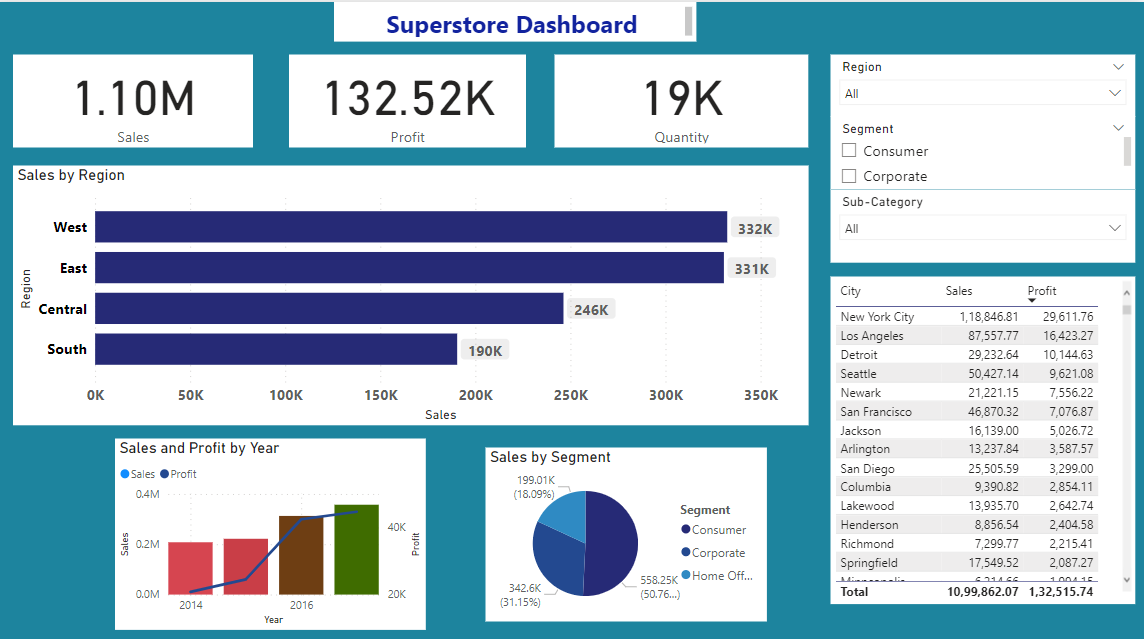

What the dashboard file says about the page in this screenshot:
{"tool":"powerbi","page":{"name":"Overview","canvas":[1280,720],"ordinal":0},"visuals":[{"type":"clusteredBarChart","fields":{"Category":["Sample - Superstore.Region"],"Y":["Sum(Sample - Superstore.Sales)"]},"box":[23.4,181.2,884,288.9],"z":0},{"type":"card","fields":{"Values":["Sum(Sample - Superstore.Sales)"]},"box":[23.3,57.8,266.7,103.3],"z":1000},{"type":"card","fields":{"Values":["Sum(Sample - Superstore.Profit)"]},"box":[330,57.8,263.3,103.3],"z":2000},{"type":"textbox","box":[379.5,0,403,43.7],"z":3000},{"type":"slicer","fields":{"Values":["Sample - Superstore.Region"]},"box":[930.8,57.8,338.9,68.7],"z":4000},{"type":"slicer","fields":{"Values":["Sample - Superstore.Segment"]},"box":[930.8,126.5,338.9,81.2],"z":6000},{"type":"slicer","fields":{"Values":["Sample - Superstore.Sub-Category"]},"box":[930.8,207.7,338.9,81.2],"z":7000},{"type":"card","fields":{"Values":["Sum(Sample - Superstore.Quantity)"]},"box":[624.4,57.8,282.2,103.3],"z":8000},{"type":"tableEx","fields":{"Values":["Sample - Superstore.City","Sum(Sample - Superstore.Sales)","Sum(Sample - Superstore.Profit)"]},"box":[930.8,304.6,338.9,363.9],"z":9000},{"type":"pieChart","fields":{"Y":["Sum(Sample - Superstore.Sales)"],"Category":["Sample - Superstore.Segment"]},"box":[548.2,495.1,312.4,193.7],"z":10000},{"type":"lineClusteredColumnComboChart","fields":{"Category":["Sample - Superstore.Order Date.Variation.Date Hierarchy.Year","Sample - Superstore.Order Date.Variation.Date Hierarchy.Quarter","Sample - Superstore.Order Date.Variation.Date Hierarchy.Month","Sample - Superstore.Order Date.Variation.Date Hierarchy.Day"],"Y":["Sum(Sample - Superstore.Sales)"],"Y2":["Sum(Sample - Superstore.Profit)"]},"box":[137.4,485.7,345.2,212.4],"z":10001}]}

Visuals, with their boxes in screenshot pixels (x1, y1, x2, y2), scaled from the page's 1280x720 canvas onto the 1144x639 screenshot:
clusteredBarChart - Sample - Superstore.Region x Sum(Sample - Superstore.Sales): 21 161 811 417
card - Sum(Sample - Superstore.Sales): 21 51 259 143
card - Sum(Sample - Superstore.Profit): 295 51 530 143
textbox: 339 0 699 39
slicer - Sample - Superstore.Region: 832 51 1135 112
slicer - Sample - Superstore.Segment: 832 112 1135 184
slicer - Sample - Superstore.Sub-Category: 832 184 1135 256
card - Sum(Sample - Superstore.Quantity): 558 51 810 143
tableEx - Sample - Superstore.City x Sum(Sample - Superstore.Sales): 832 270 1135 593
pieChart - Sum(Sample - Superstore.Sales) x Sample - Superstore.Segment: 490 439 769 611
lineClusteredColumnComboChart - Sample - Superstore.Order Date.Variation.Date Hierarchy.Year x Sample - Superstore.Order Date.Variation.Date Hierarchy.Quarter: 123 431 431 620
